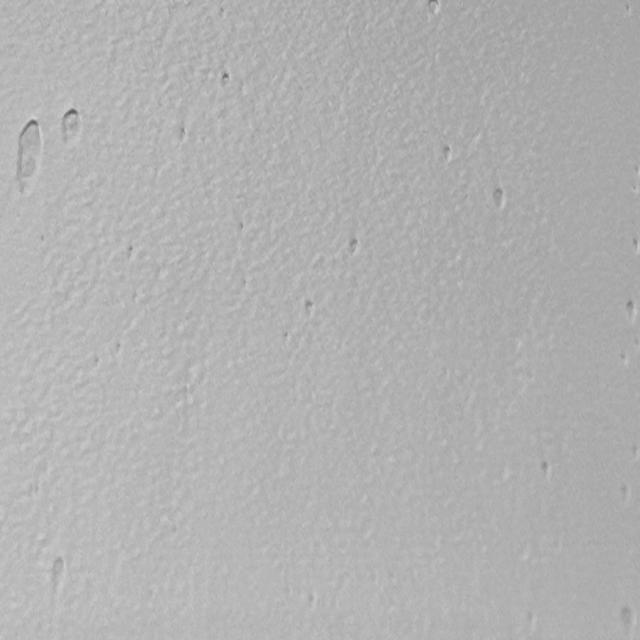pin holes: (12, 113, 50, 195), (58, 106, 85, 148), (616, 603, 638, 636), (47, 558, 68, 592), (488, 184, 508, 211), (521, 608, 541, 634), (618, 482, 635, 508), (623, 299, 640, 324), (439, 143, 456, 167), (302, 297, 318, 321), (176, 123, 192, 147), (538, 460, 555, 482), (426, 0, 444, 19), (346, 236, 363, 256), (220, 72, 234, 90), (630, 236, 639, 254)
